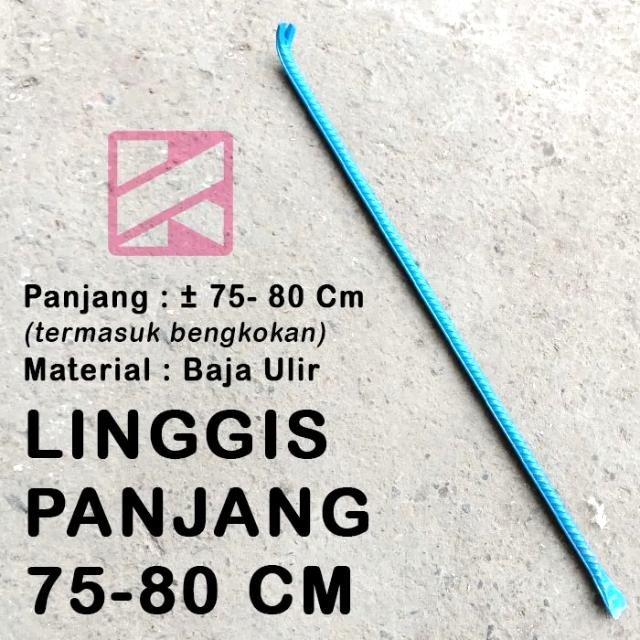crow bar: (273, 15, 622, 606)
